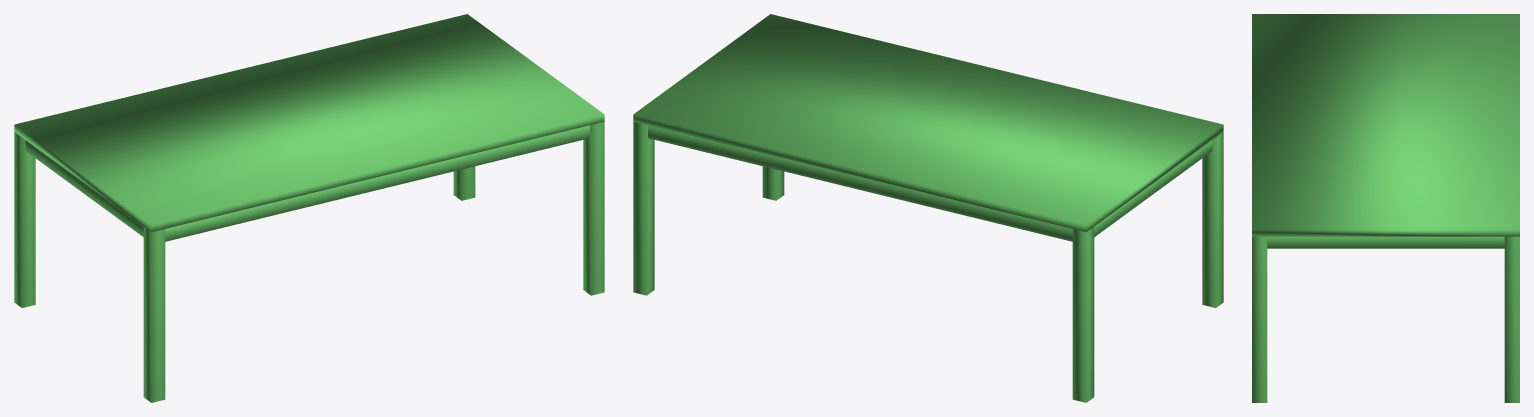
File: SimpleTable.fbx
3 views of the same model, side by side, from view 1: azimuth 30°, elevation 25°; view 2: azimuth 150°, elevation 25°; view 3: azimuth 270°, elevation 25° (orthographic). The views are drawn at different scales.
Visible parts, largest first — view 1: Flat, Leg, Seal1, Seal2; view 2: Flat, Leg, Seal1, Seal2; view 3: Flat, Leg, Seal2.
Part boxes in pixels (box(x1,y1,x2,y2)): Flat: box(14, 14, 604, 232); Leg: box(14, 121, 604, 402); Seal1: box(165, 125, 589, 241); Seal2: box(25, 140, 143, 236); Flat: box(633, 14, 1223, 232); Leg: box(633, 121, 1223, 402); Seal1: box(648, 125, 1072, 241); Seal2: box(1094, 140, 1212, 236); Flat: box(1252, 14, 1519, 236); Leg: box(1252, 236, 1519, 402); Seal2: box(1267, 236, 1504, 248).
Size of the model in its own units: 2 by 0.75 by 1.05.
